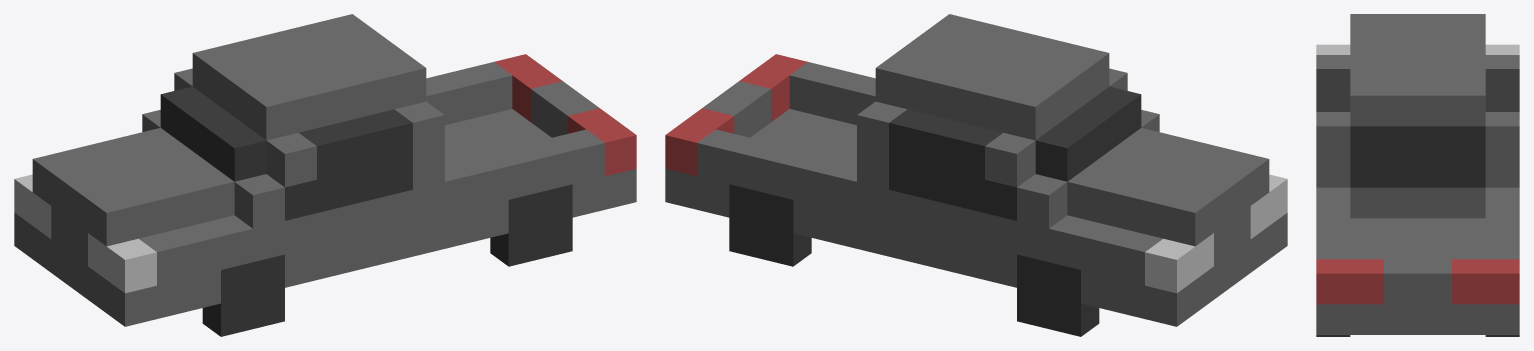
Rendered from car-v5-grey.gltf.
3 renders of one model, left to right at view 1: azimuth 30°, elevation 25°; view 2: azimuth 150°, elevation 25°; view 3: azimuth 270°, elevation 25°, orthographic. The views are drawn at different scales.
Visible parts, largest first — view 1: model, wheels; view 2: model, wheels; view 3: model.
Part boxes in pixels (left/top/right/bottom): model: left=14, top=14, right=636, bottom=326; wheels: left=202, top=184, right=572, bottom=336; model: left=665, top=14, right=1287, bottom=326; wheels: left=729, top=184, right=1099, bottom=336; model: left=1316, top=14, right=1519, bottom=334.
Size of the model in its own units: 1.6 by 0.6 by 0.6.
2 materials, 2 textured.
